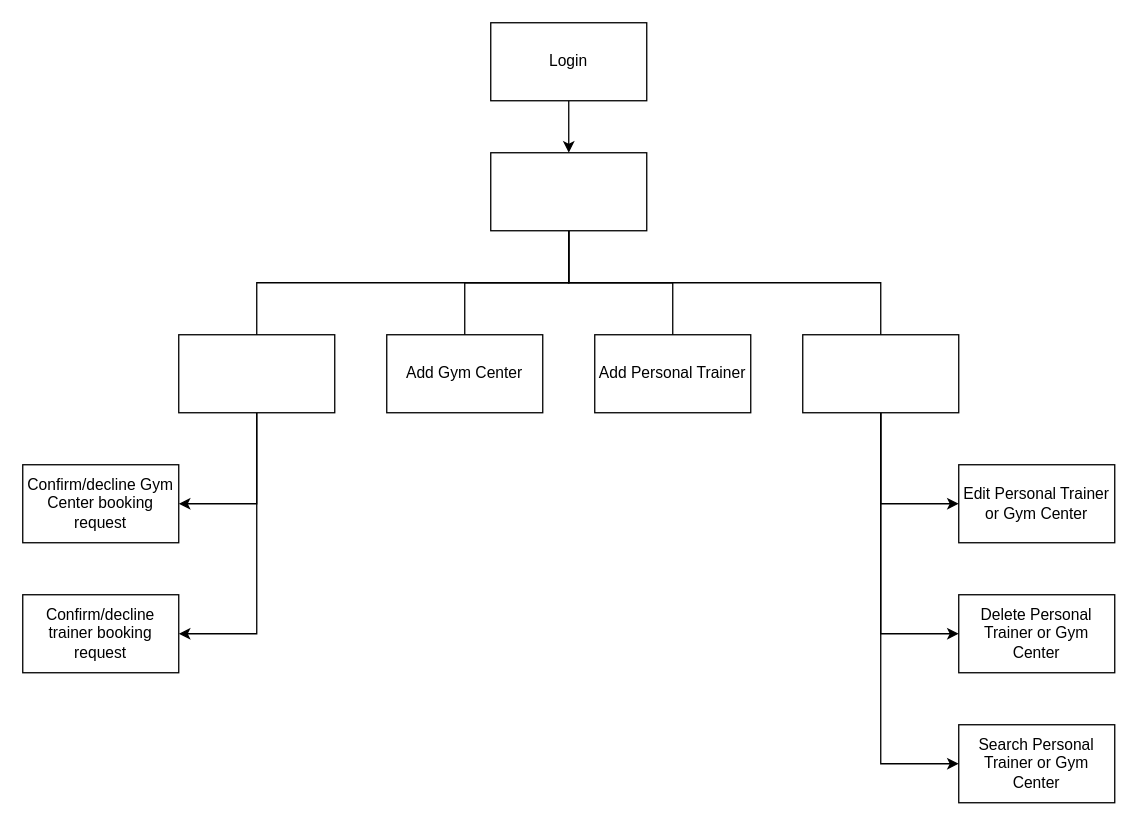
Image size: 1138x826. Some labels were removed from this diagram. The centre of each missing label's shape, as x and y in pixels:
"Confirm/decline booking request" belongs at (256,373).
"HomePage" belongs at (568,191).
"List Personal Trainer/Gym Center" belongs at (880,373).
